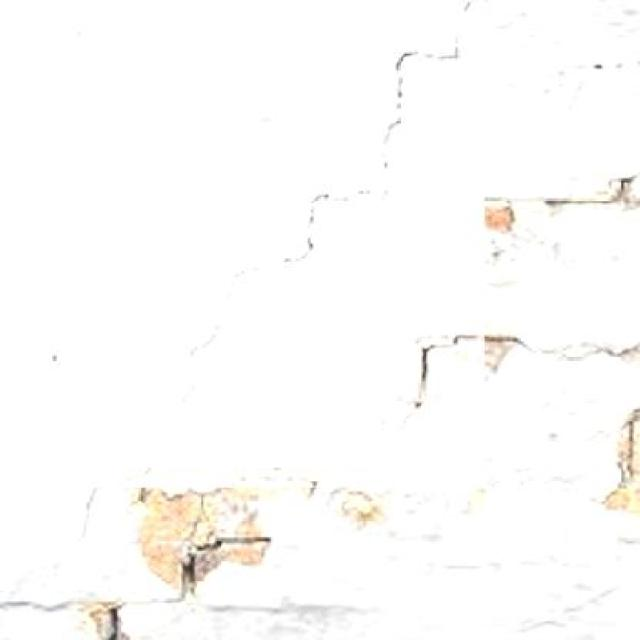Crack: (266, 0, 477, 278), (399, 322, 640, 438), (73, 526, 314, 638), (492, 169, 640, 242)
